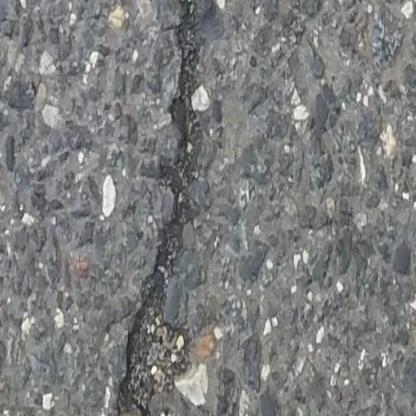Cracks: (110, 0, 209, 416)
